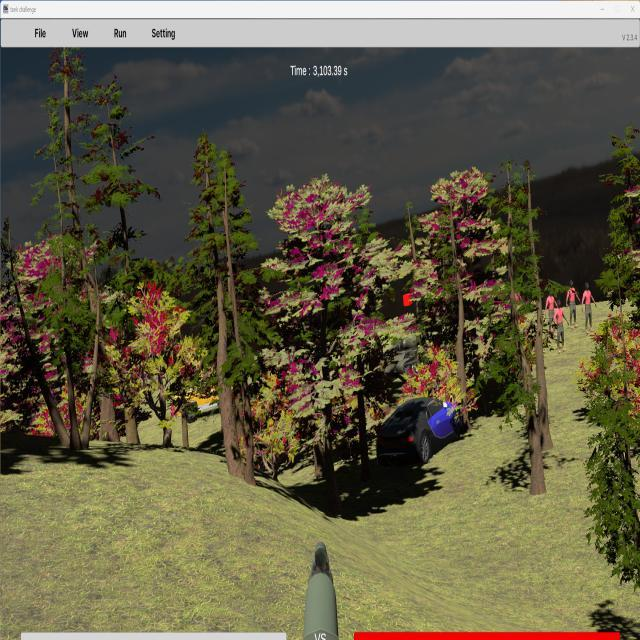Human: (581, 282, 597, 335), (554, 301, 569, 352), (545, 287, 558, 342), (566, 280, 580, 329)
car: (375, 396, 469, 468)
